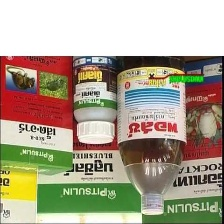book: (31, 56, 155, 220), (134, 51, 223, 223), (0, 21, 77, 178), (0, 92, 53, 223)
insecticide: (114, 34, 189, 216), (70, 44, 121, 146)
